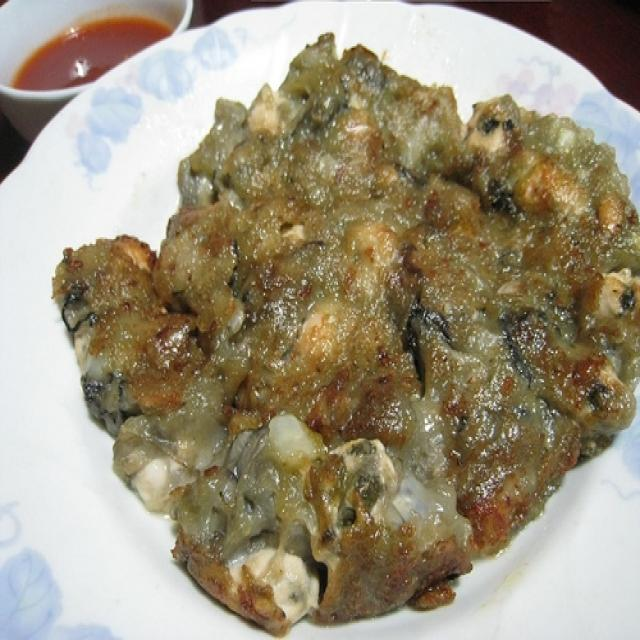熟制海鲜: (19, 10, 631, 628)
